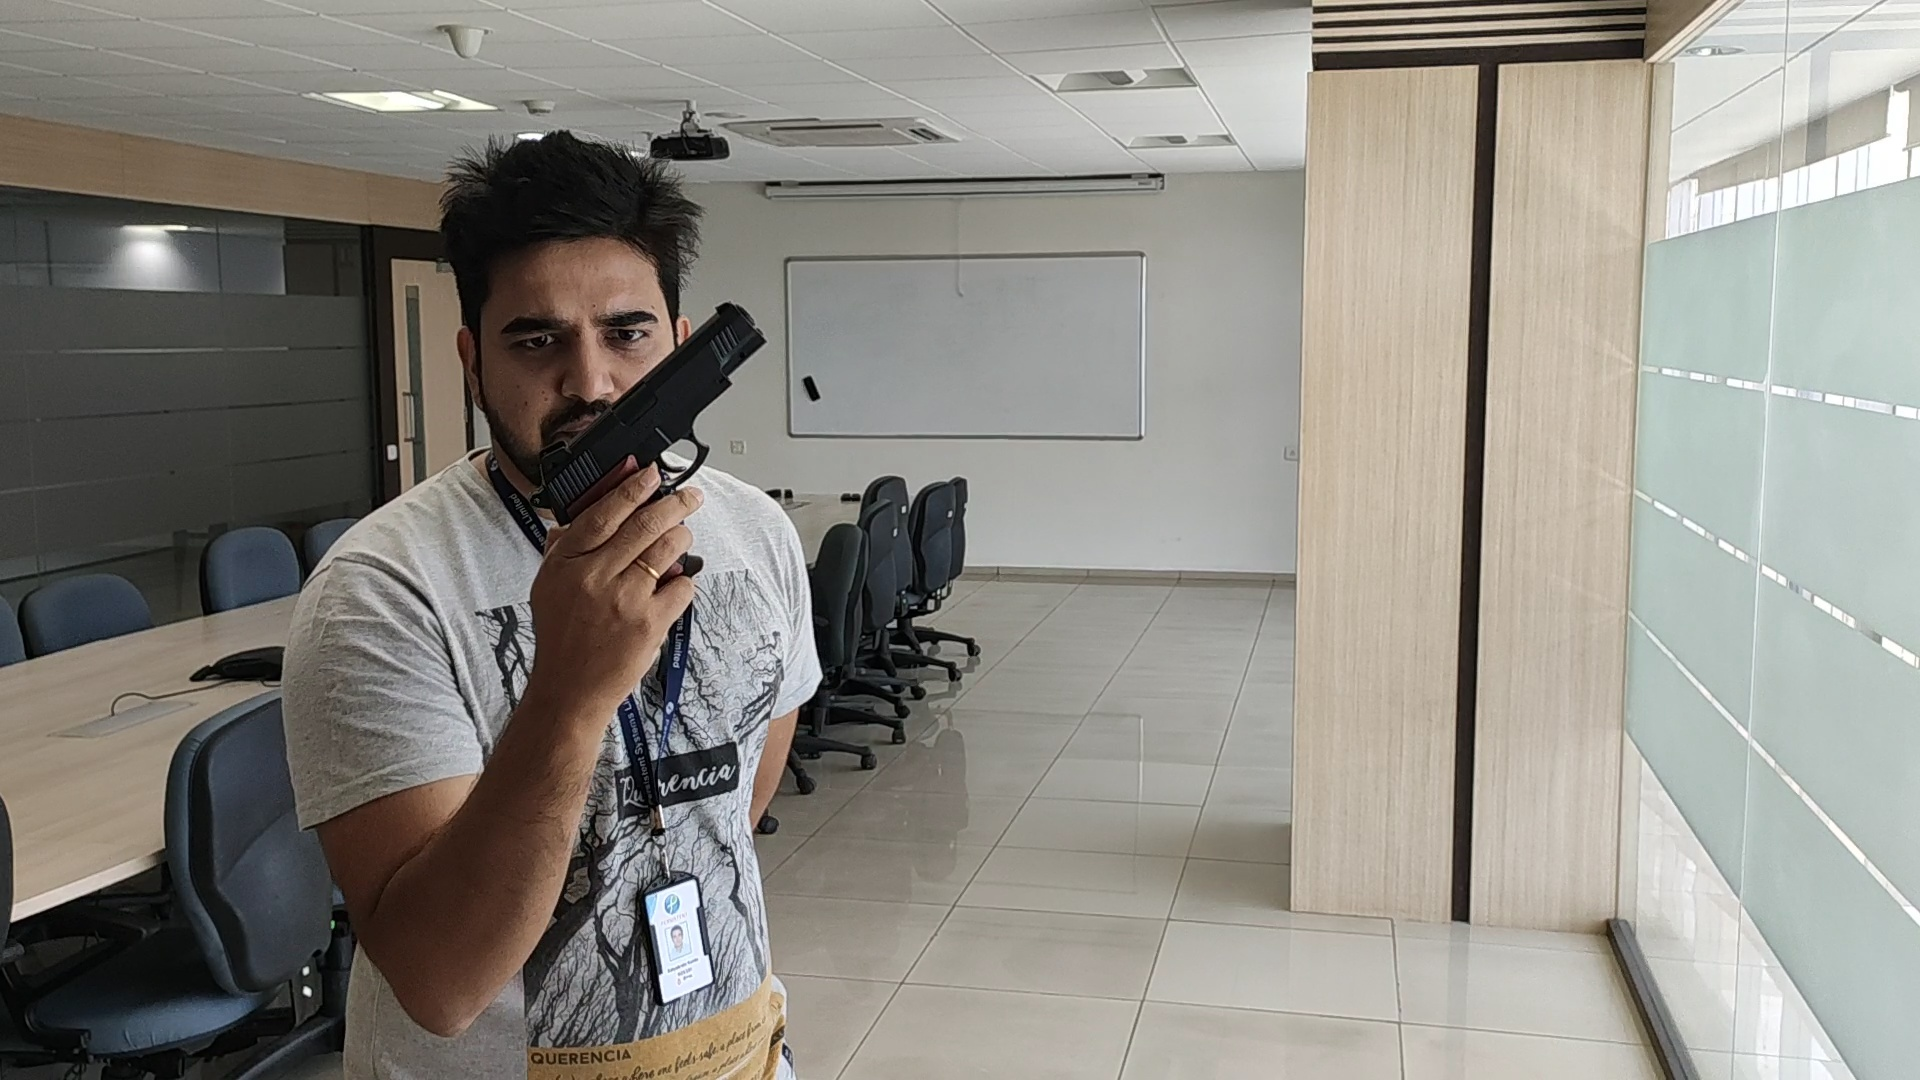gun: (539, 305, 771, 464)
